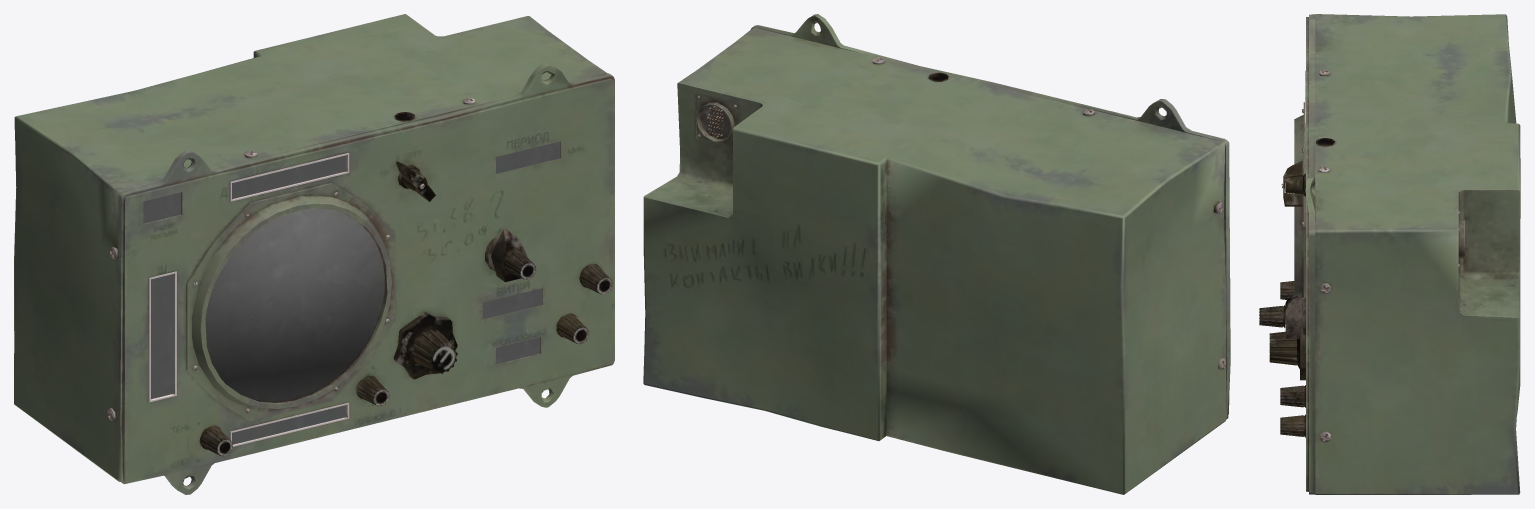
Rendered from vintage_spacecraft_instrument.glb.
3 views of the same model, side by side, from view 1: azimuth 30°, elevation 25°; view 2: azimuth 150°, elevation 25°; view 3: azimuth 270°, elevation 25° (orthographic). The views are drawn at different scales.
Visible parts, largest first — view 1: vintage_spacecraft_instrument; view 2: vintage_spacecraft_instrument; view 3: vintage_spacecraft_instrument.
Part boxes in pixels (box(x1,y1,x2,y2)): vintage_spacecraft_instrument: box(14, 14, 614, 494); vintage_spacecraft_instrument: box(643, 14, 1230, 494); vintage_spacecraft_instrument: box(1259, 14, 1520, 494).
Size of the model in its own units: 0.4103 by 0.2693 by 0.2044.
Materials: 2 (2 with a texture image).
